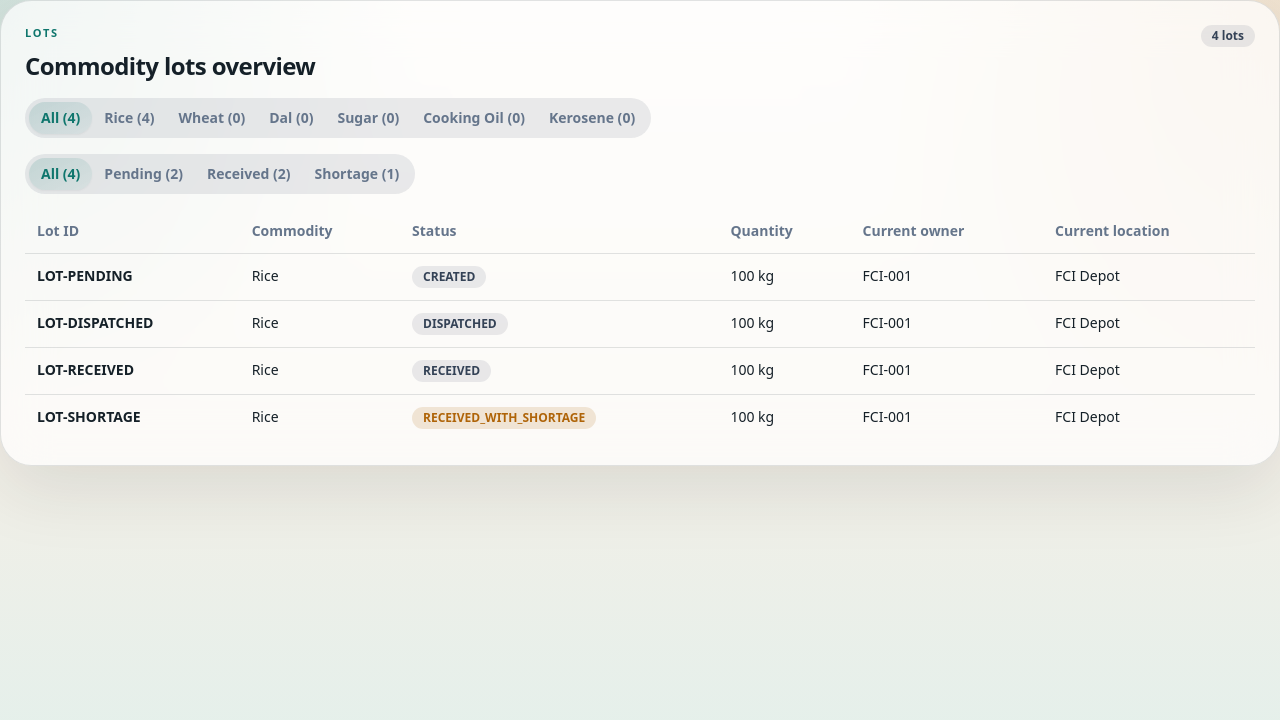
Test case: LotsPanel › filters to received lots (received + shortage)
The width and height of the screenshot is (1280, 720).
Click the tab "Received (2)" at (249, 174), box [195, 158, 302, 190]
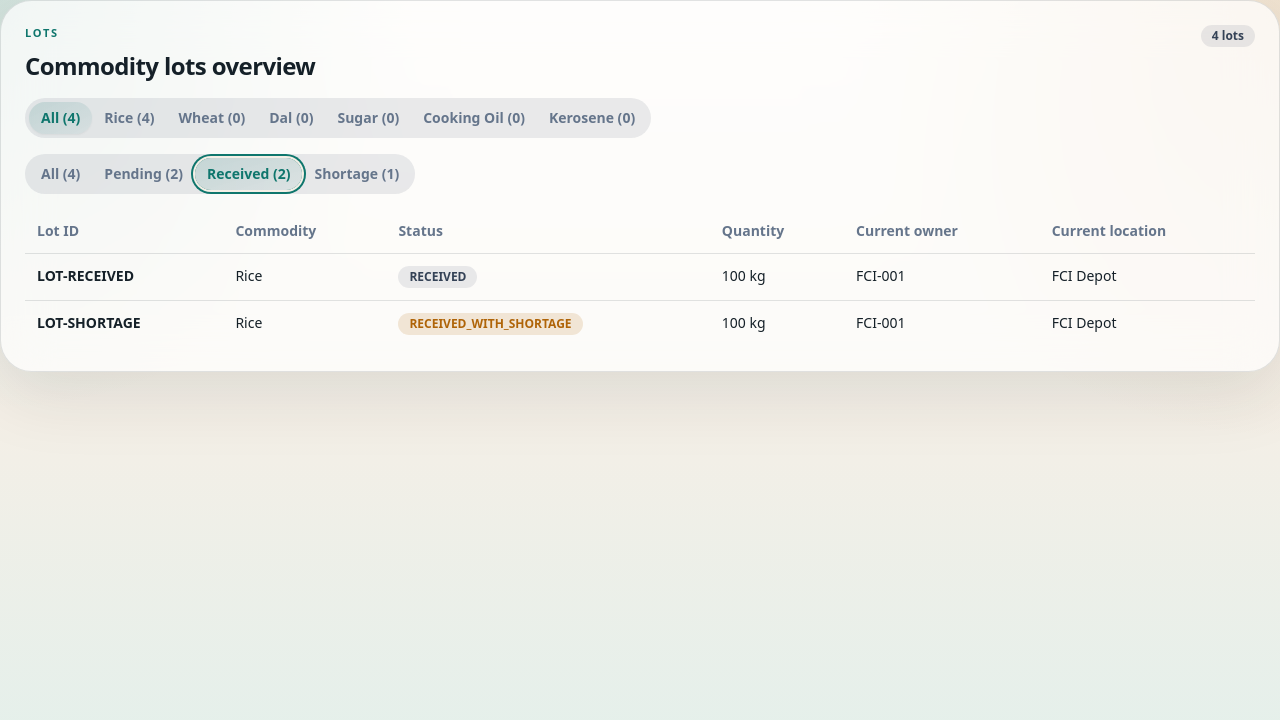
Expected: the text "LOT-RECEIVED" is shown, [25, 254, 223, 300]
Expected: the text "LOT-PENDING" is gone
